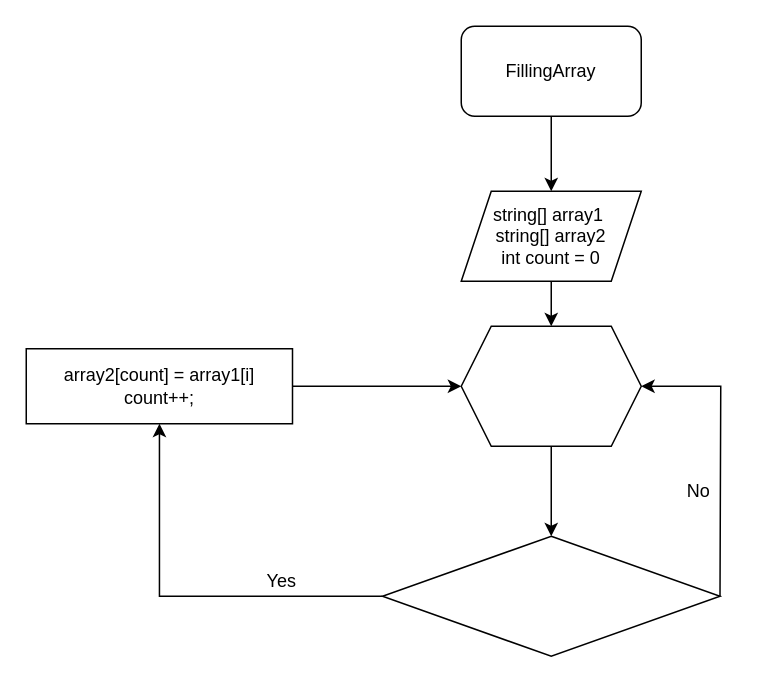
Image size: 759x683. Some labels were removed from this diagram. The shapes that lost their labels are listed below. From the top down, each one's centre as x and y in pixels, then its label:
At point 550,385: "for (int i = 0; i < array1.length; i++)".
At point 550,595: "if (array1[i].length <= 3)".
